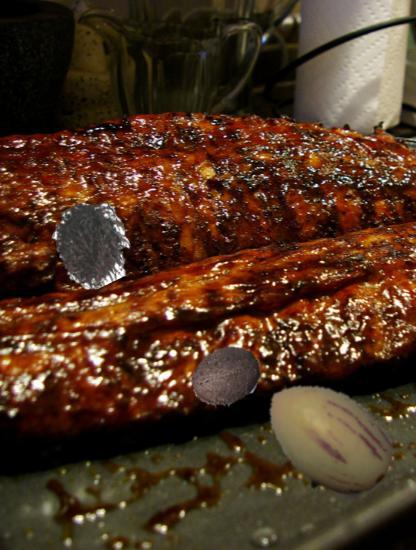Cocos: (190, 340, 263, 413)
Pepino: (257, 371, 398, 512)
Rambutan: (51, 201, 137, 287)
